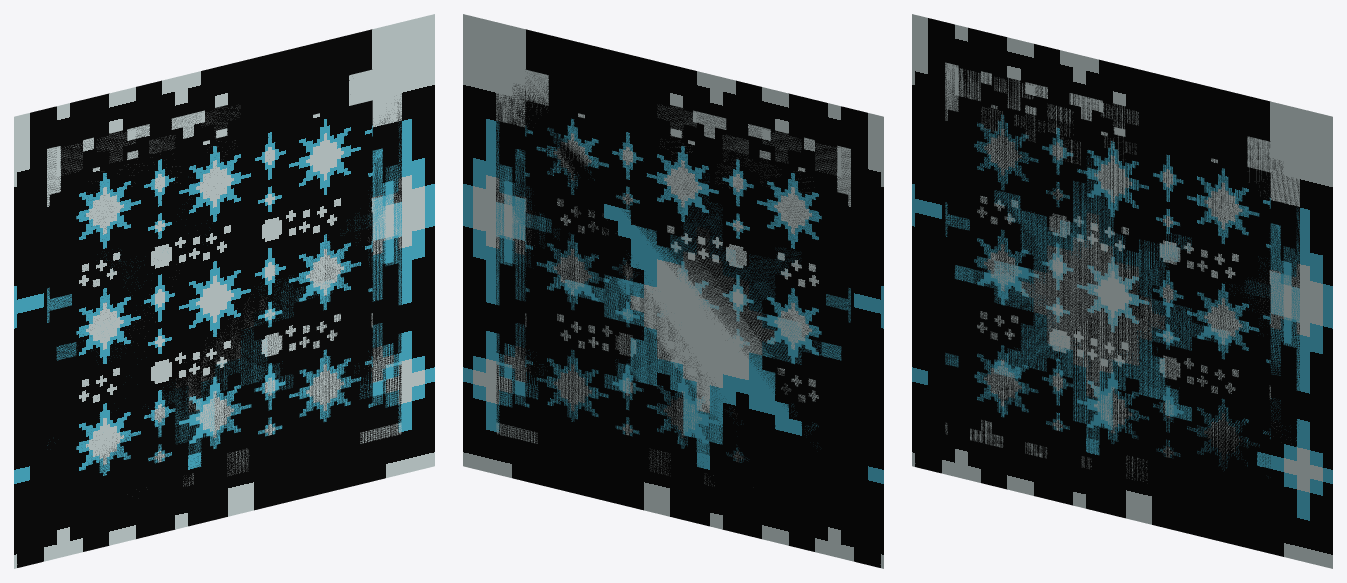
3 views of the same model, side by side, from view 1: azimuth 30°, elevation 25°; view 2: azimuth 150°, elevation 25°; view 3: azimuth 330°, elevation 25° (orthographic).
Visible parts, largest first — view 1: ef_026; view 2: ef_026; view 3: ef_026.
Boxes of the visible parts, box(x1,y1,x2,y2) form: ef_026: box(14, 14, 434, 568); ef_026: box(463, 14, 883, 568); ef_026: box(912, 14, 1332, 568).
Size of the model in its own units: 0.2373 by 0.2437 by 0.
Materials: 1 (1 with a texture image).
